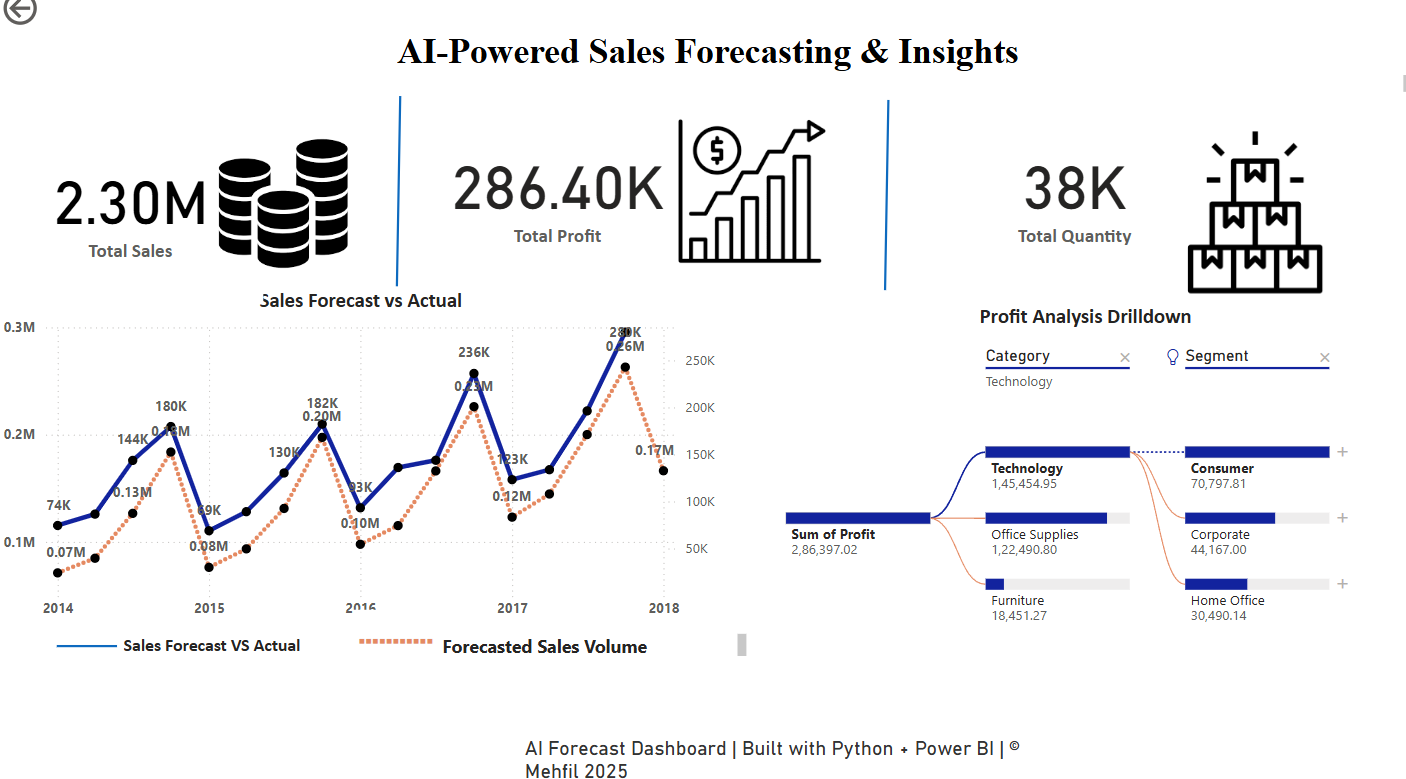

The page's visual inventory and layout, read from the dashboard file:
{"tool":"powerbi","page":{"name":"AI Forecast Dashboard","canvas":[1280,720],"ordinal":0},"visuals":[{"type":"lineChart","title":"Sales Forecast vs Actual","fields":{"Category":["sales_forecast.ds.Variation.Date Hierarchy.Year","sales_forecast.ds.Variation.Date Hierarchy.Quarter","sales_forecast.ds.Variation.Date Hierarchy.Month","sales_forecast.ds.Variation.Date Hierarchy.Day"],"Y":["sales_forecast.yhat"],"Y2":["Cleaned_Superstore.Sales"]},"box":[0,271.4,654.2,308.1],"z":0},{"type":"decompositionTreeVisual","title":"Profit Analysis Drilldown","fields":{"Analyze":["Cleaned_Superstore.Profit"],"ExplainBy":["Cleaned_Superstore.Category","Cleaned_Superstore.Segment","Cleaned_Superstore.Region","Cleaned_Superstore.Sub-Category"]},"box":[680.3,286.8,599.7,308.1],"z":1000},{"type":"shape","box":[0,138.7,1253.9,174.2],"z":2000},{"type":"card","fields":{"Values":["Cleaned_Superstore.Sales"]},"box":[0,112.6,239.4,174.2],"z":3000},{"type":"card","fields":{"Values":["Cleaned_Superstore.Profit"]},"box":[369.8,99.6,270.2,174.2],"z":4000},{"type":"card","fields":{"Values":["Cleaned_Superstore.Quantity"]},"box":[809.5,99.6,323.6,174.2],"z":5000},{"type":"actionButton","box":[0,0,100,40],"z":6000},{"type":"shape","box":[211,99.6,301,171.9],"z":7000},{"type":"image","box":[559.4,103.1,241.8,164.7],"z":8000},{"type":"image","box":[152.9,122.1,208.6,149.3],"z":9000},{"type":"shape","box":[663.7,103.1,275,171.9],"z":10000},{"type":"image","box":[1039.4,122.1,188.4,164.7],"z":11000},{"type":"textbox","title":"AI-Powered Sales Forecasting & Insights","box":[0,39.1,1280,83],"z":12000},{"type":"textbox","title":"AI Forecast Dashboard | Built with Python + Power BI | © Mehfil 2025","box":[470.5,676.7,468.1,43.9],"z":13000},{"type":"textbox","box":[107.9,579.6,184.9,33.2],"z":15000},{"type":"shape","box":[53.3,557,54.5,77],"z":16000},{"type":"textbox","title":"............","box":[320,563,80.6,33.2],"z":18000},{"type":"textbox","box":[395.9,579.6,284.4,30.8],"z":19001}]}

Visuals, with their boxes in screenshot pixels (x1, y1, x2, y2), scaled from the page's 1280x720 canvas onto the 1406x779 screenshot:
"Sales Forecast vs Actual" lineChart: region(0, 294, 719, 627)
"Profit Analysis Drilldown" decompositionTreeVisual: region(747, 310, 1405, 644)
shape: region(0, 150, 1377, 339)
card - Cleaned_Superstore.Sales: region(0, 122, 263, 310)
card - Cleaned_Superstore.Profit: region(406, 108, 703, 296)
card - Cleaned_Superstore.Quantity: region(889, 108, 1245, 296)
actionButton: region(0, 0, 110, 43)
shape: region(232, 108, 562, 294)
image: region(614, 112, 880, 290)
image: region(168, 132, 397, 294)
shape: region(729, 112, 1031, 298)
image: region(1142, 132, 1349, 310)
"AI-Powered Sales Forecasting & Insights" textbox: region(0, 42, 1405, 132)
"AI Forecast Dashboard | Built with Python + Power BI | © Mehfil 2025" textbox: region(517, 732, 1031, 778)
textbox: region(119, 627, 322, 663)
shape: region(59, 603, 118, 686)
"............" textbox: region(352, 609, 440, 645)
textbox: region(435, 627, 747, 660)
